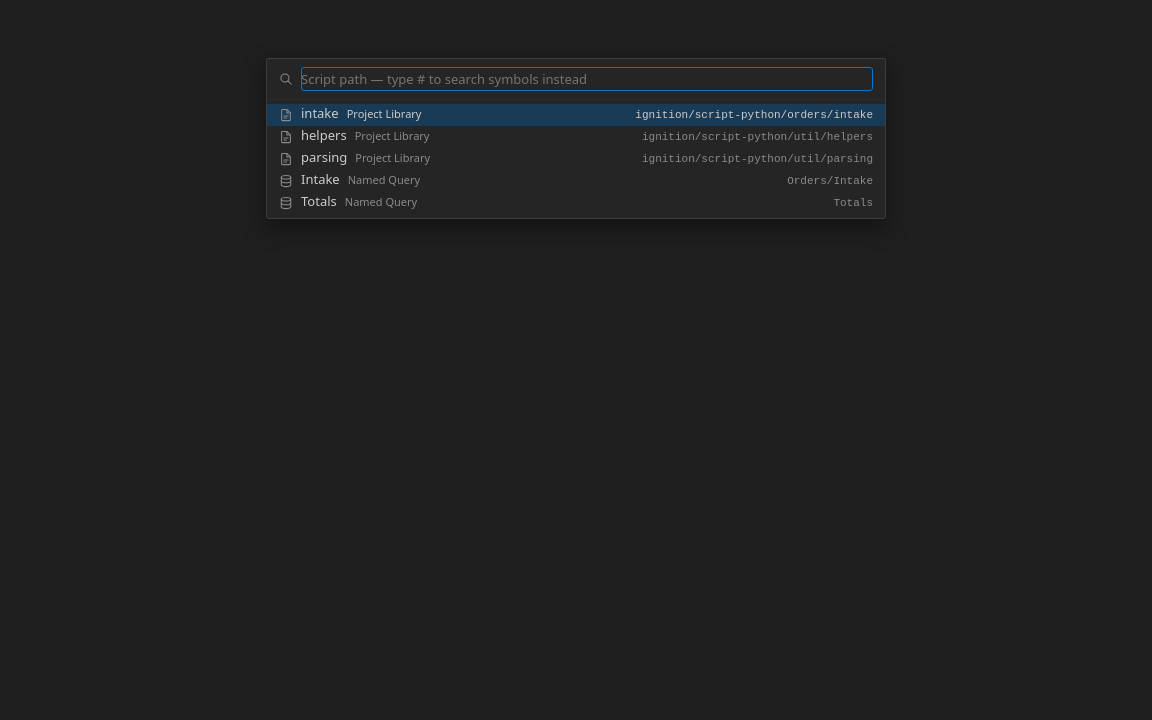
it: QuickOpen — named queries › says what was searched when nothing matches
The image size is (1152, 720).
Type "zzzz" into the field at coordinates (587, 79), box [301,67,873,91]
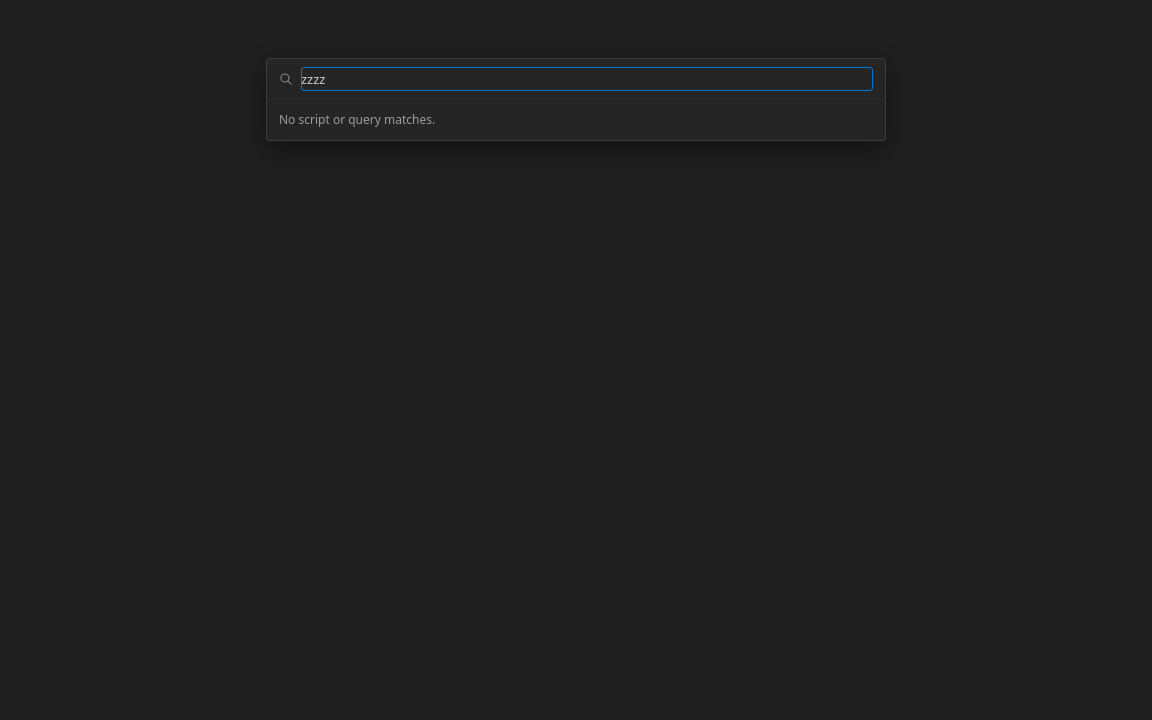
Result: the list item "No script or query matches." is shown at [279,111,435,128]
